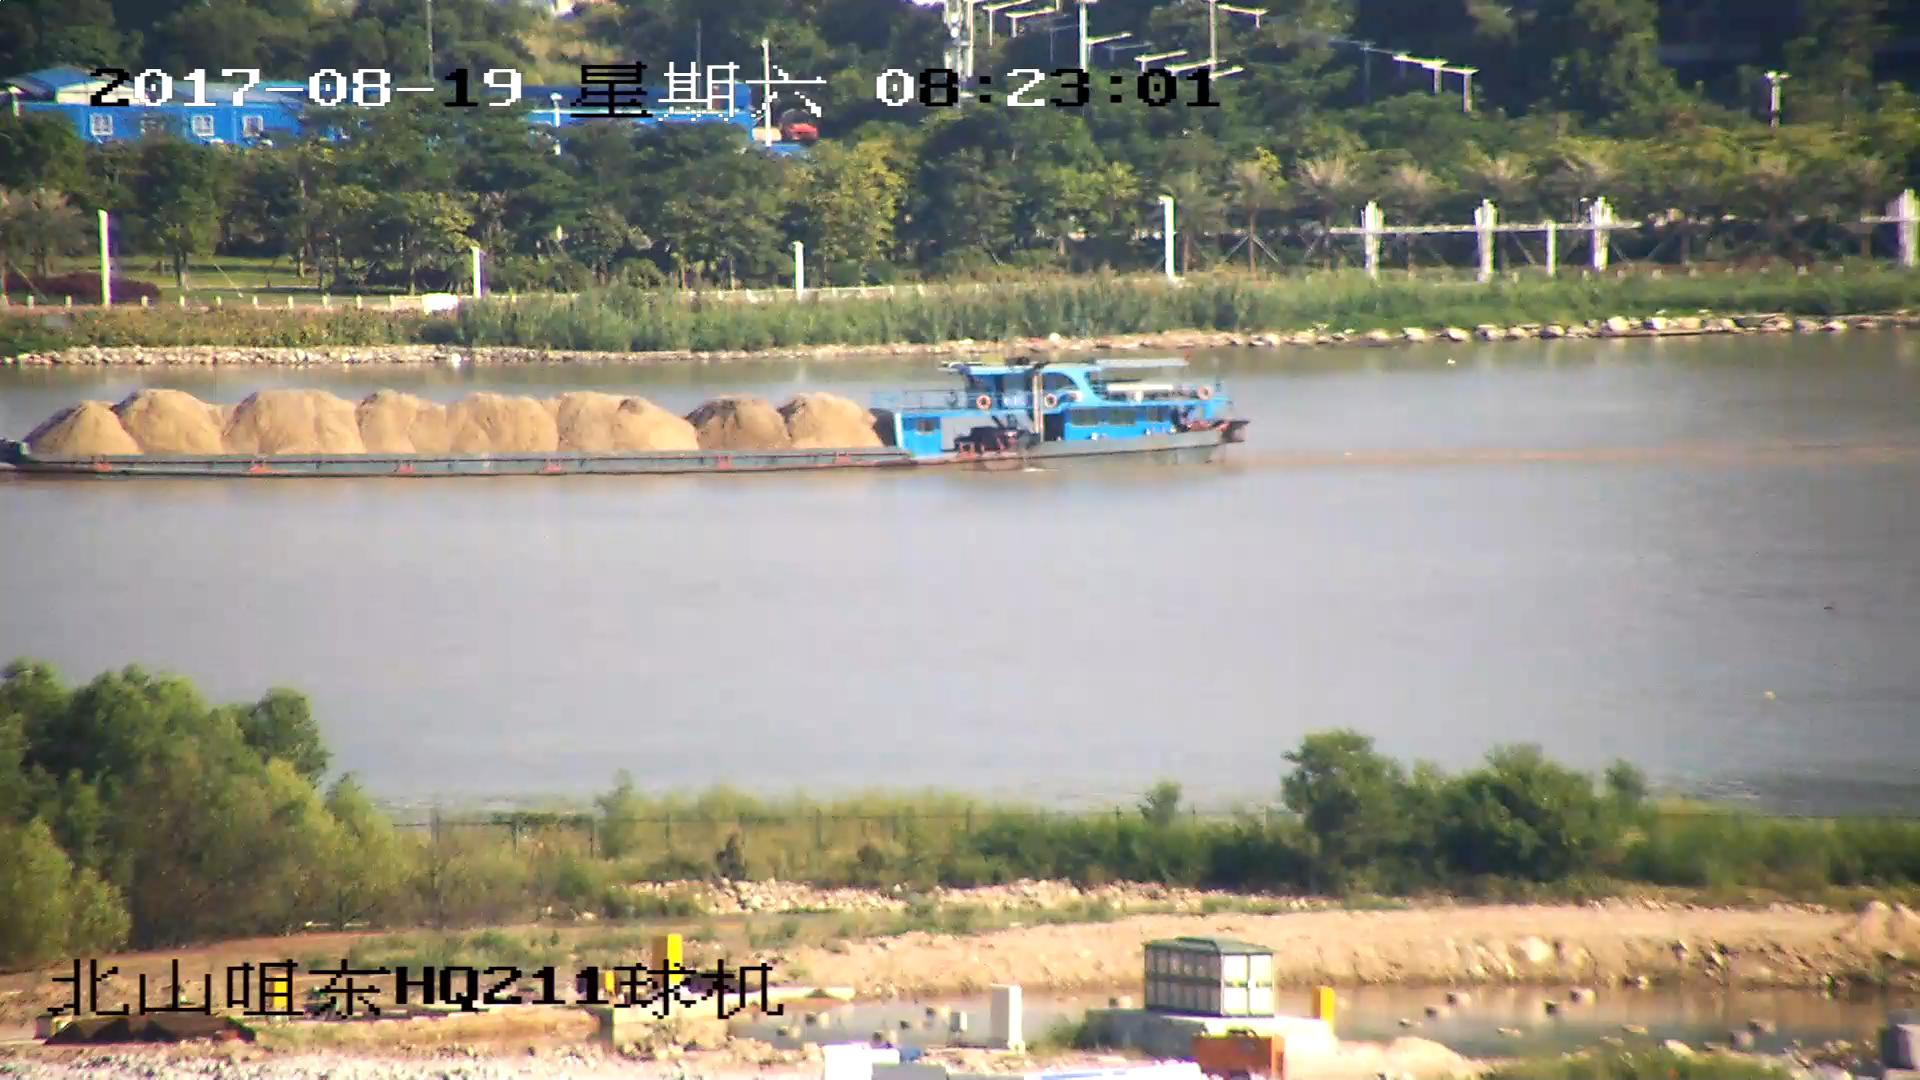ore carrier: (1, 340, 1252, 479)
